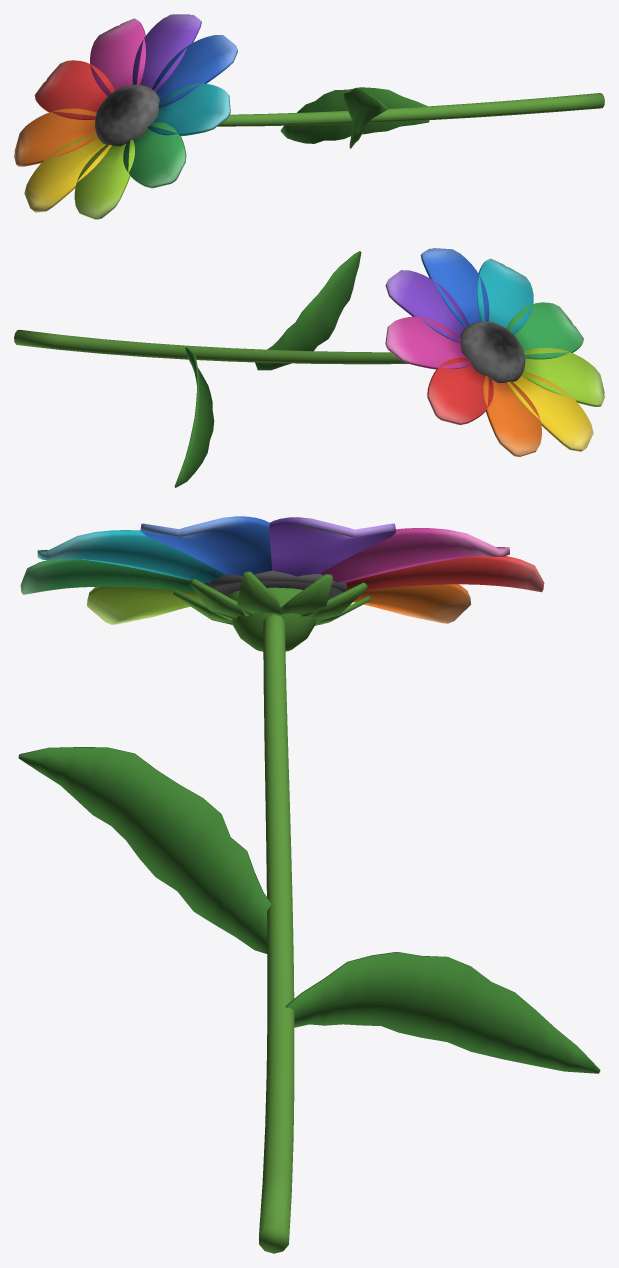
File: pigment_flower.glb
3 renders of one model, top to bottom at view 1: azimuth 30°, elevation 25°; view 2: azimuth 150°, elevation 25°; view 3: azimuth 270°, elevation 25°, orthographic. The views are drawn at different scales.
Visible parts, largest first — view 1: PigmentFlower_Flower_Head_Petals, PigmentFlower_Flower_Stem, PigmentFlower_Flower_Leaf0, PigmentFlower_Flower_Head_Disc, PigmentFlower_Flower_Leaf1; view 2: PigmentFlower_Flower_Head_Petals, PigmentFlower_Flower_Stem, PigmentFlower_Flower_Leaf1, PigmentFlower_Flower_Head_Disc, PigmentFlower_Flower_Leaf0; view 3: PigmentFlower_Flower_Head_Petals, PigmentFlower_Flower_Leaf1, PigmentFlower_Flower_Leaf0, PigmentFlower_Flower_Stem, PigmentFlower_Flower_Head_Sepals, PigmentFlower_Flower_Head_Disc.
Part boxes in pixels (box(x1,y1,x2,y2)): PigmentFlower_Flower_Head_Petals: box(14, 14, 237, 219); PigmentFlower_Flower_Stem: box(217, 93, 604, 126); PigmentFlower_Flower_Leaf0: box(280, 87, 429, 143); PigmentFlower_Flower_Head_Disc: box(95, 84, 159, 146); PigmentFlower_Flower_Leaf1: box(343, 87, 387, 148); PigmentFlower_Flower_Head_Petals: box(385, 248, 604, 456); PigmentFlower_Flower_Stem: box(14, 330, 408, 364); PigmentFlower_Flower_Leaf1: box(255, 251, 361, 370); PigmentFlower_Flower_Head_Disc: box(460, 321, 525, 382); PigmentFlower_Flower_Leaf0: box(174, 347, 214, 487); PigmentFlower_Flower_Head_Petals: box(20, 516, 544, 624); PigmentFlower_Flower_Leaf1: box(18, 747, 271, 953); PigmentFlower_Flower_Leaf0: box(285, 952, 600, 1073); PigmentFlower_Flower_Stem: box(259, 615, 294, 1253); PigmentFlower_Flower_Head_Sepals: box(172, 571, 371, 651); PigmentFlower_Flower_Head_Disc: box(203, 570, 347, 599).
Bounding box in the file's own units: 0.3326 × 0.1136 × 0.1474.
